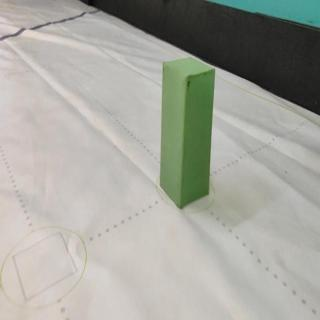greenbox: (159, 55, 217, 210)
